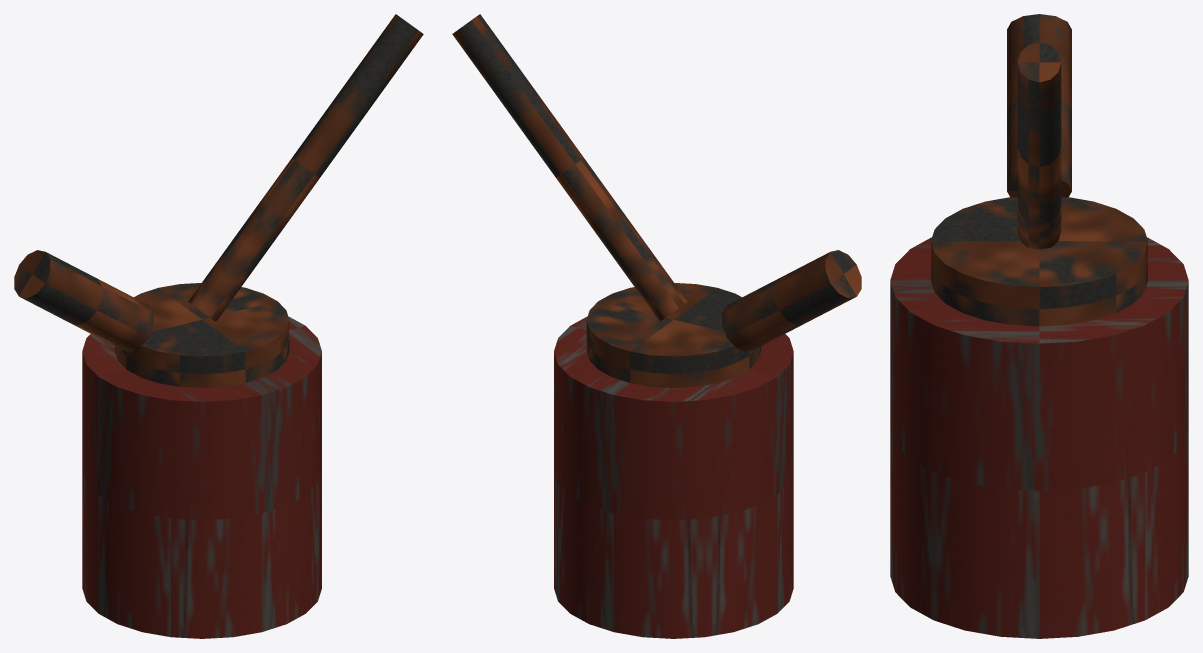
Rendered from SM_MachineOilCan_b32dc09e3d.fbx.
The picture shows the model from 3 angles, left to right: view 1: azimuth 30°, elevation 25°; view 2: azimuth 150°, elevation 25°; view 3: azimuth 270°, elevation 25°; orthographic projection. The views are drawn at different scales.
Visible parts, largest first — view 1: SM_MachineOilCan_b32dc09e3d; view 2: SM_MachineOilCan_b32dc09e3d; view 3: SM_MachineOilCan_b32dc09e3d.
Boxes of the visible parts, left/top/right/bottom form: SM_MachineOilCan_b32dc09e3d: left=14, top=14, right=423, bottom=638; SM_MachineOilCan_b32dc09e3d: left=452, top=14, right=861, bottom=638; SM_MachineOilCan_b32dc09e3d: left=890, top=14, right=1188, bottom=638.
Size of what is drawn, in the model's own units: 21.3 by 11 by 26.54.
Materials: 2 (2 with a texture image).
